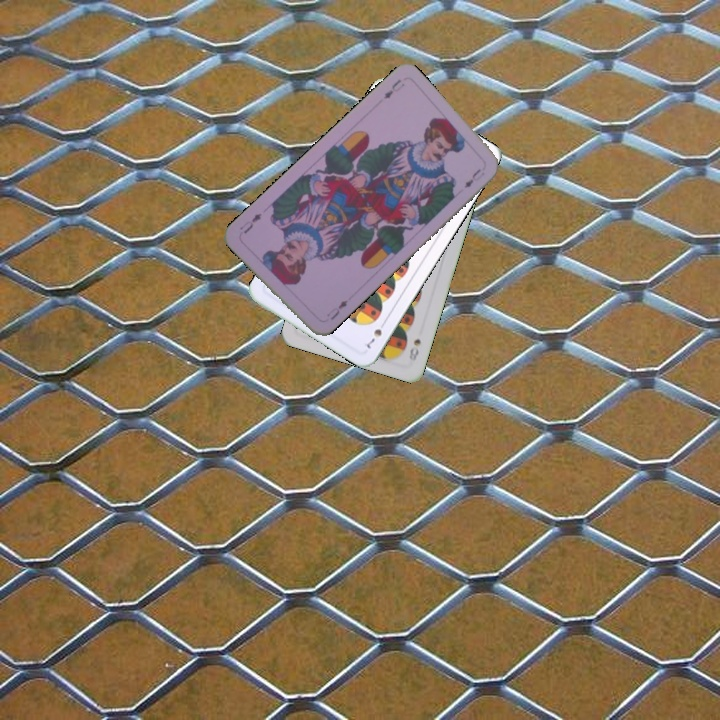EU: (322, 296, 350, 323), (379, 75, 407, 102)
S7: (363, 316, 389, 351)
S8: (405, 335, 424, 364)
